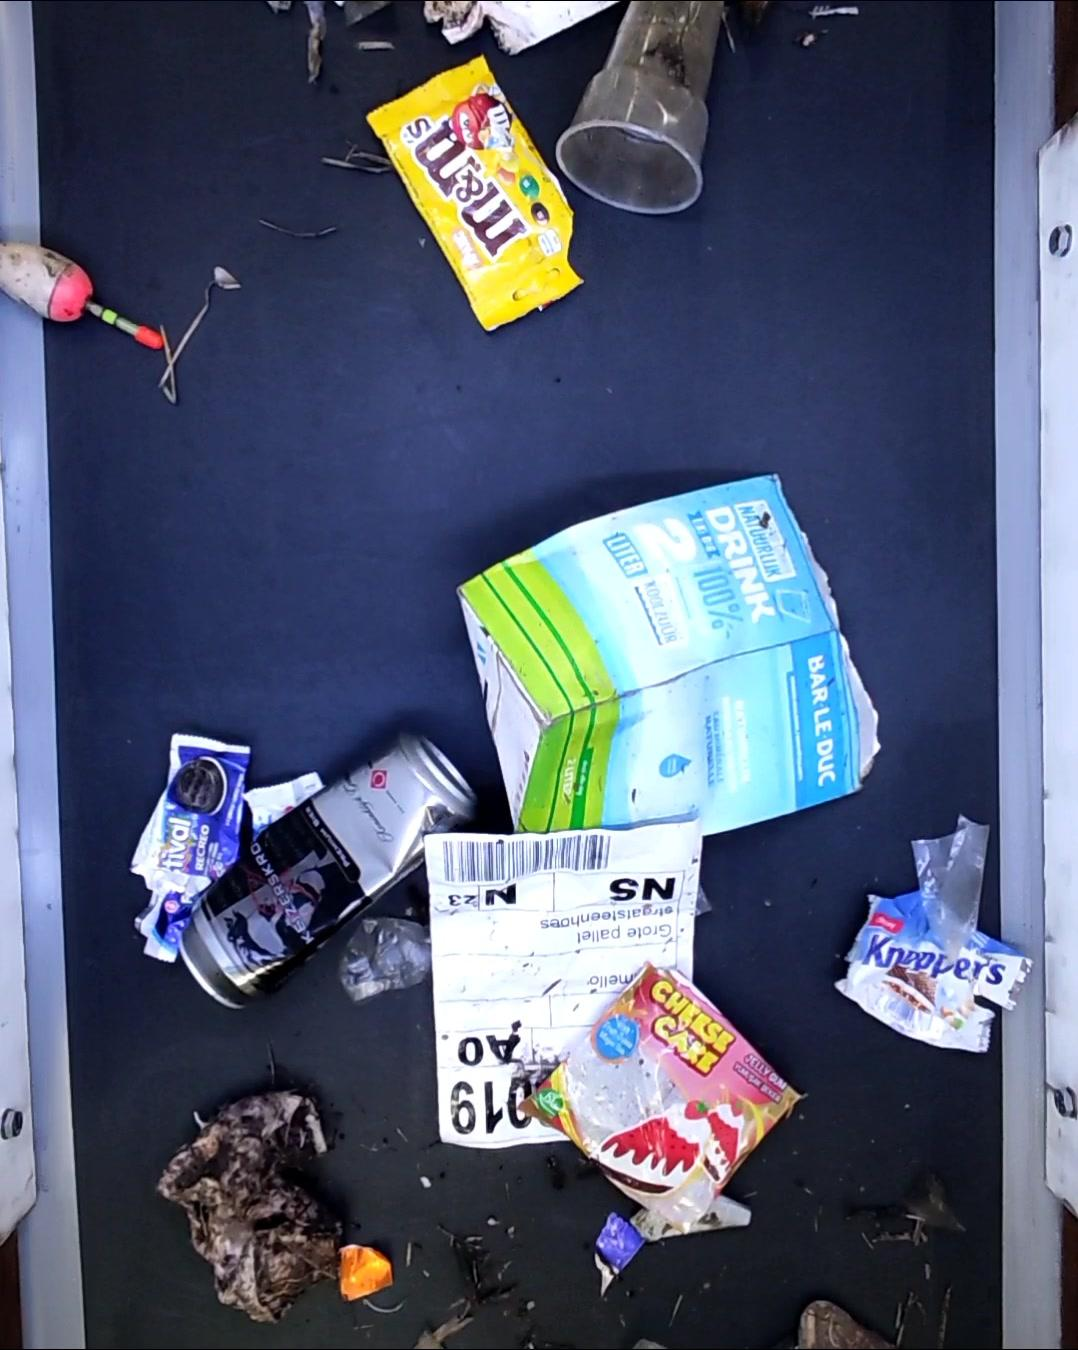Drankblikjes: (179, 730, 477, 1011)
Plastic folies of stukken daarvan 2.5- 50 cm: (915, 812, 986, 972), (341, 916, 430, 1005)
Snoep snack en chips verpakkingen: (524, 962, 804, 1216), (372, 57, 587, 332), (842, 883, 1033, 1058), (134, 737, 262, 967)
